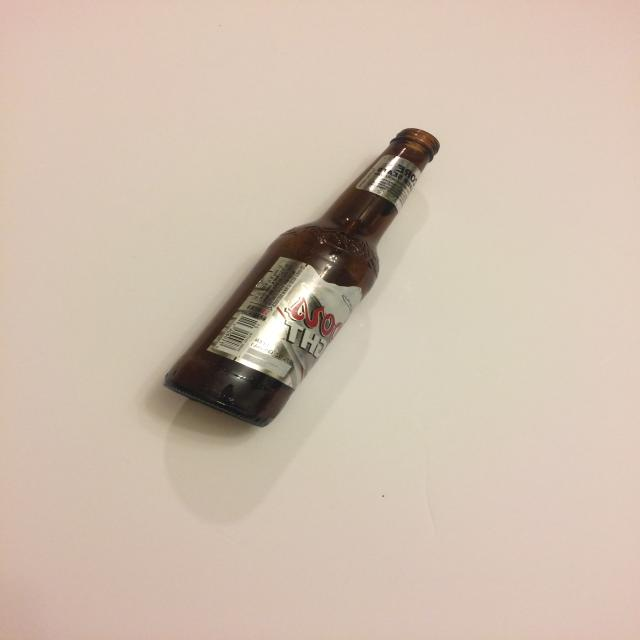glass: (164, 126, 446, 428)
